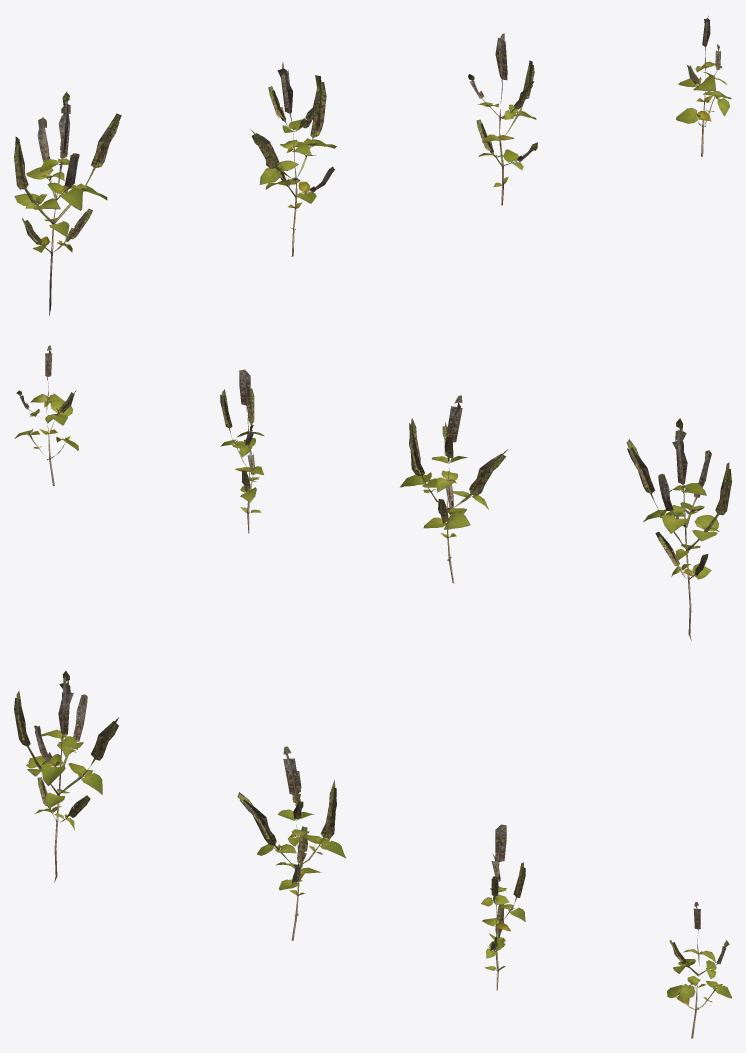
Rendered from shrub_03.glb.
3 views of the same model, one above another, from view 1: azimuth 30°, elevation 25°; view 2: azimuth 150°, elevation 25°; view 3: azimuth 330°, elevation 25° (orthographic). The views are drawn at different scales.
Parts seen in each view (by area): view 1: shrub_03_a; view 2: shrub_03_a; view 3: shrub_03_a.
Boxes of the visible parts, x1,y1,x2,y2 form: shrub_03_a: (14, 16, 731, 315); shrub_03_a: (14, 345, 731, 640); shrub_03_a: (14, 671, 731, 1038).
Bounding box in the file's own units: 1.37 × 0.4028 × 0.1512.
Materials: 1 (1 with a texture image).
